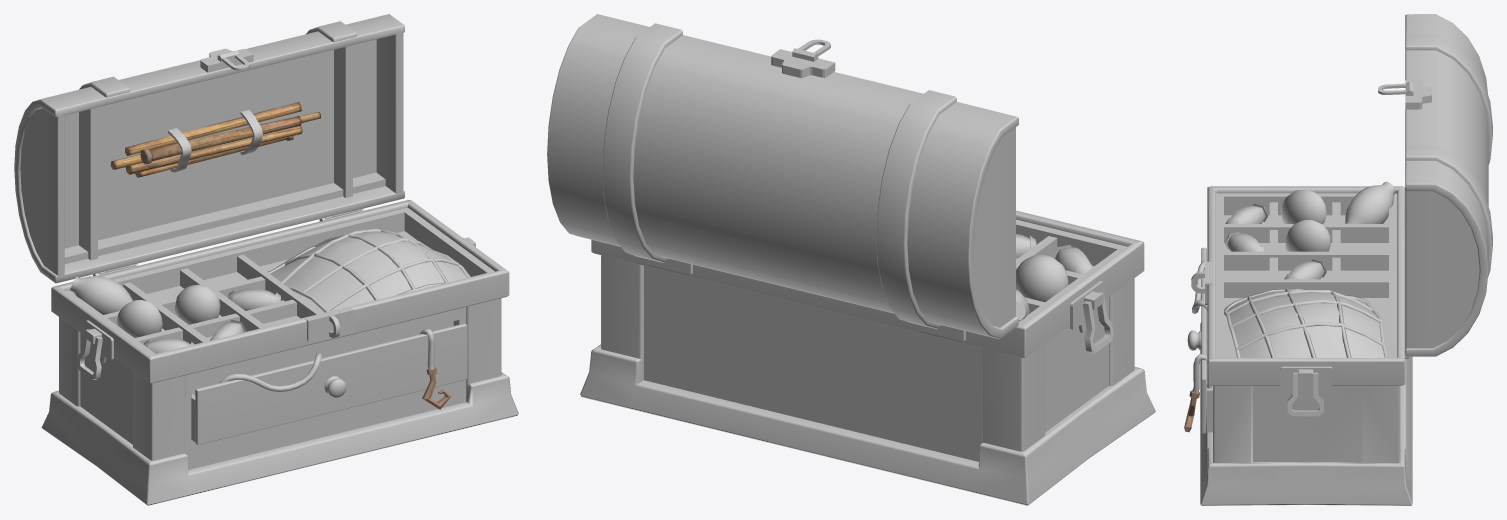
The picture shows the model from 3 angles, left to right: view 1: azimuth 30°, elevation 25°; view 2: azimuth 150°, elevation 25°; view 3: azimuth 270°, elevation 25°; orthographic projection. The views are drawn at different scales.
Visible parts, largest first — view 1: SM_Tackle_Box_01_LOD0; view 2: SM_Tackle_Box_01_LOD0; view 3: SM_Tackle_Box_01_LOD0.
Part boxes in pixels (left/top/right/bottom): SM_Tackle_Box_01_LOD0: left=14, top=14, right=518, bottom=505; SM_Tackle_Box_01_LOD0: left=547, top=14, right=1155, bottom=505; SM_Tackle_Box_01_LOD0: left=1184, top=14, right=1492, bottom=505.
Bounding box in the file's own units: 1.39 × 1.13 × 0.9571.
